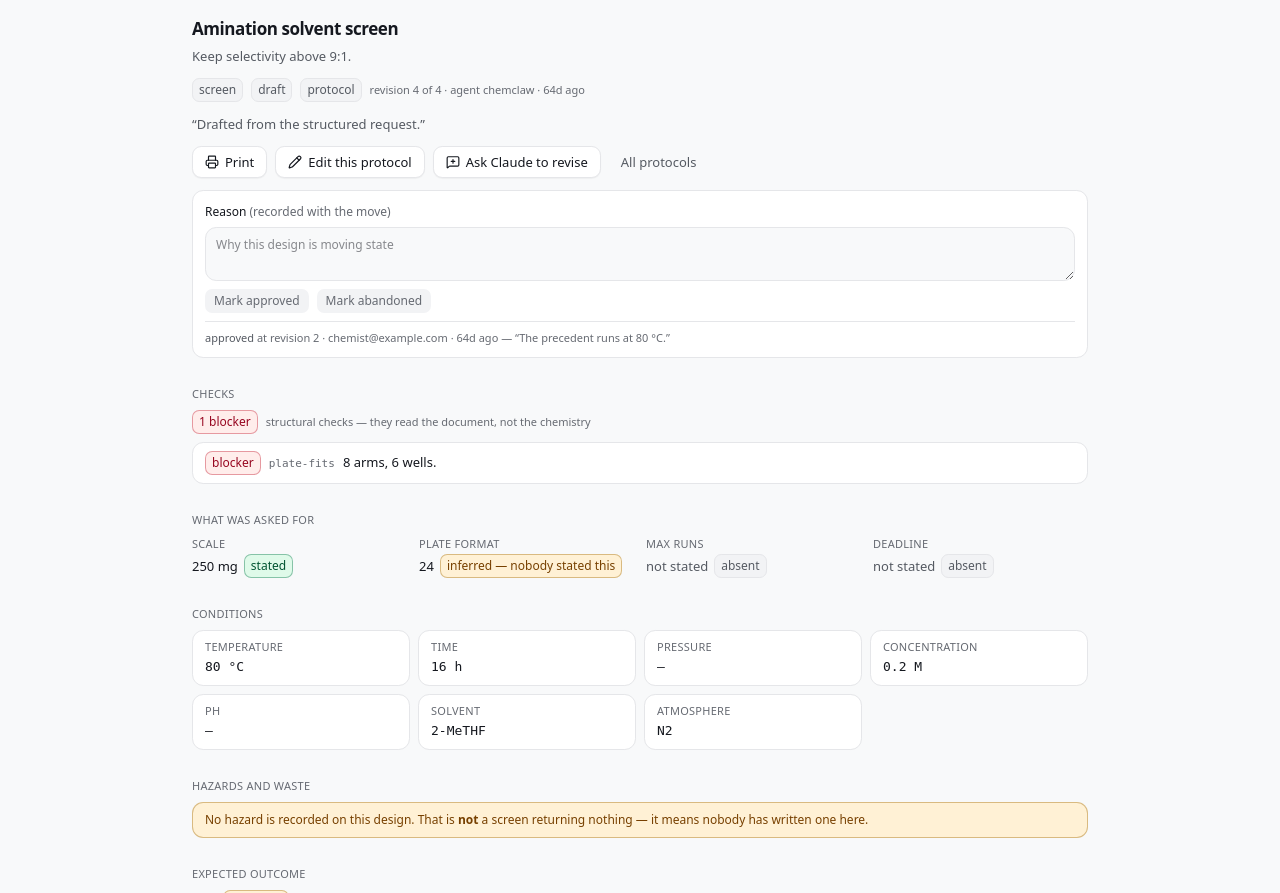
ProtocolDocument › sends the status it is showing beside the revision it is showing
Type "the precedent holds" into the text box with placeholder "Why this design is moving state".
click(640, 254); type("the precedent holds")  # box [205,226,1075,280]
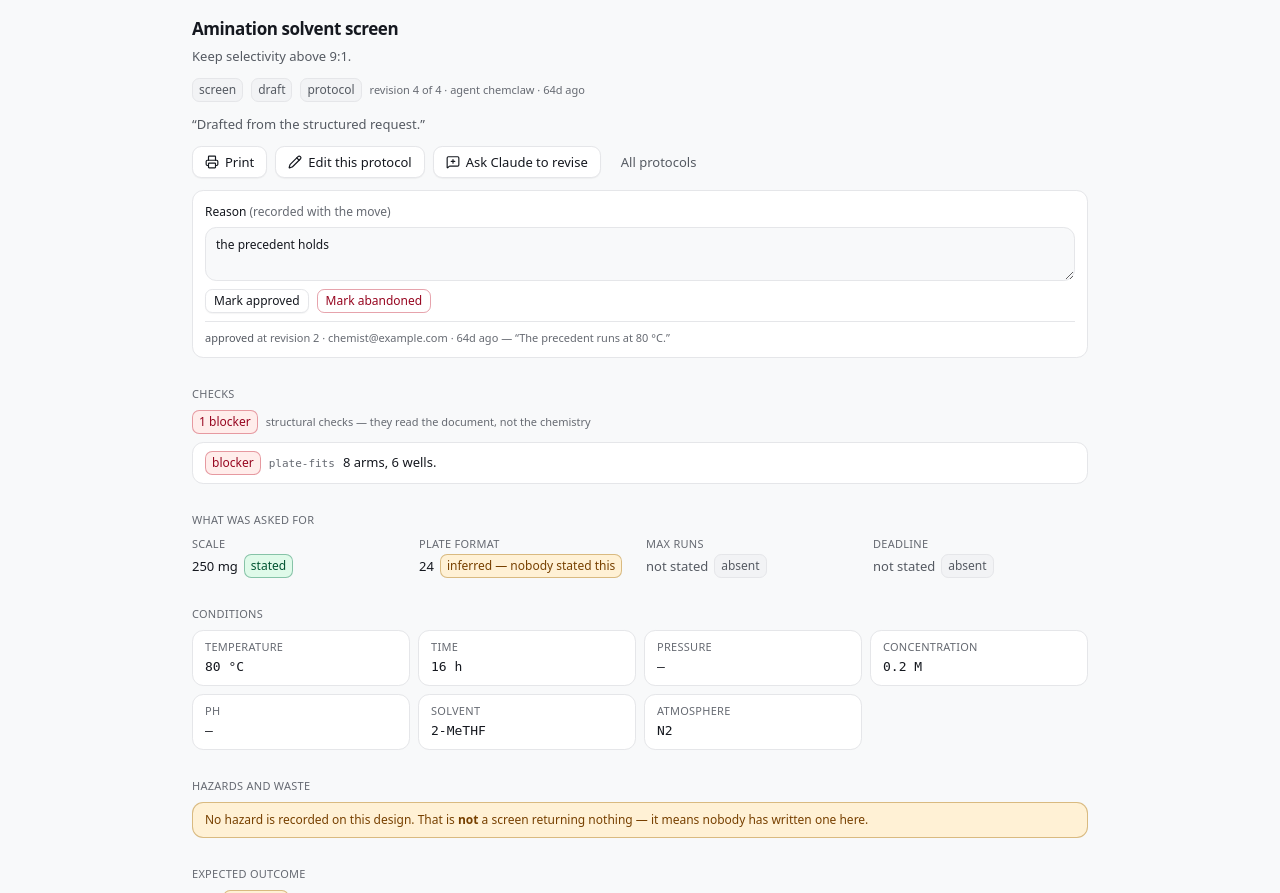
Click the button "Mark approved".
click(257, 300)  # box [205,288,309,312]
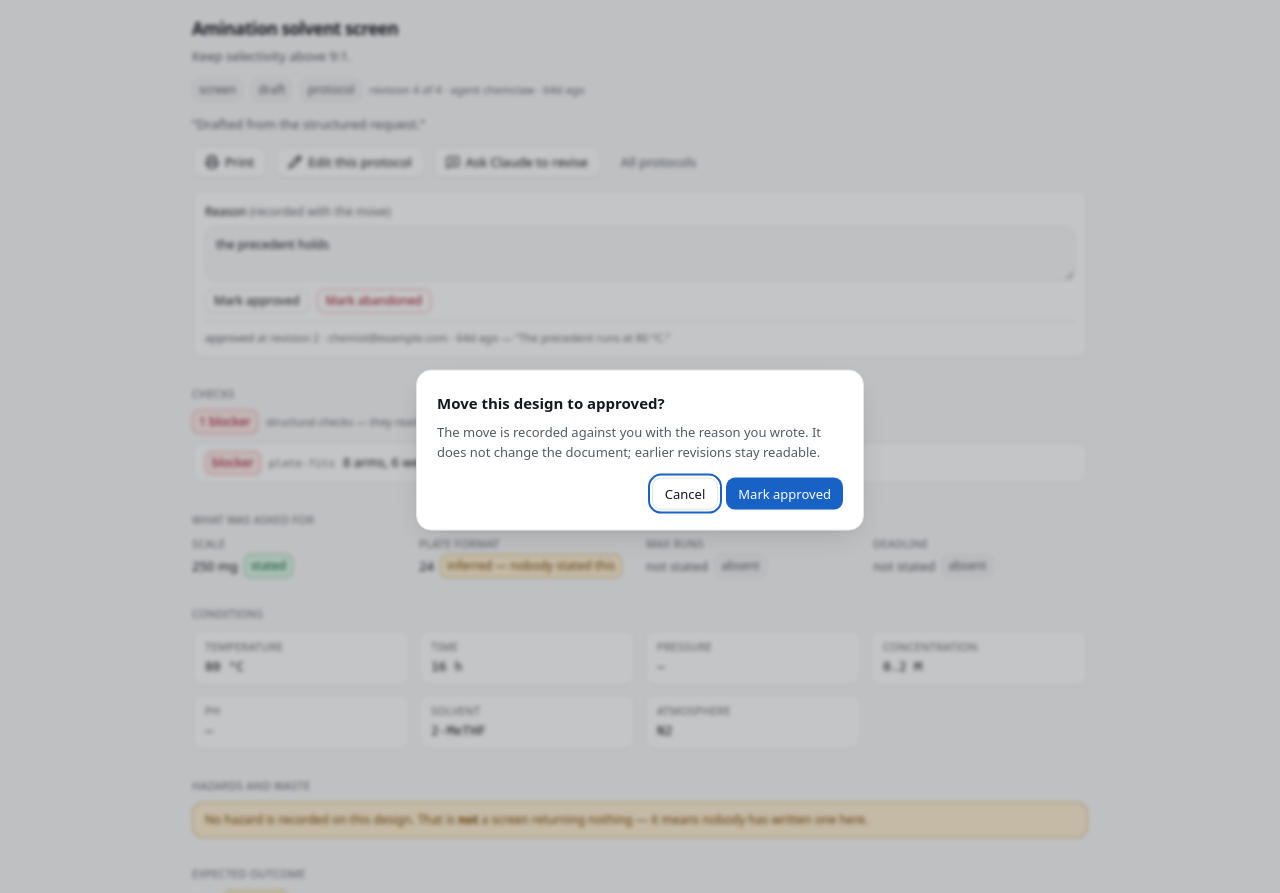
Click the button "Mark approved".
click(785, 493)  # box [726,477,843,509]
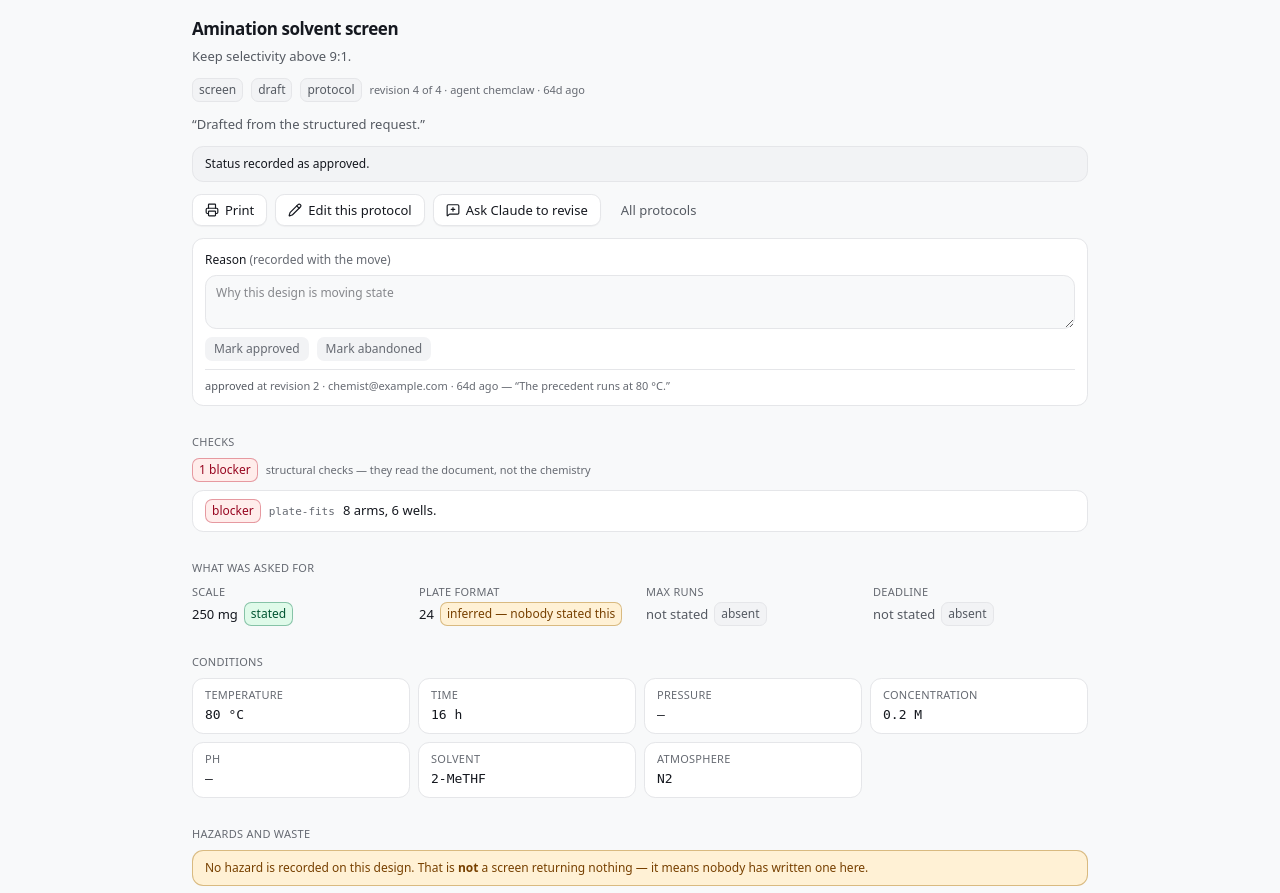
Expected: the message shows "approved", [205,154,369,172]
